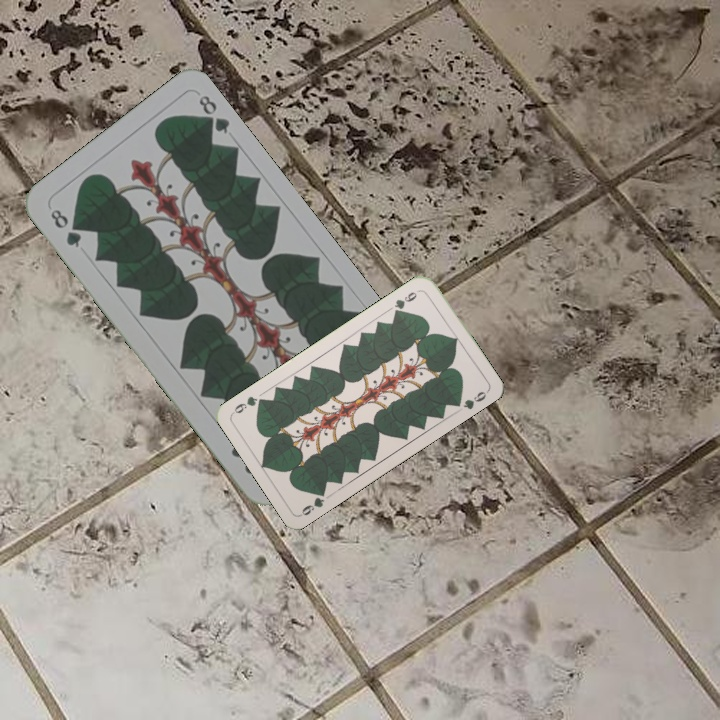G8: (46, 204, 85, 251)
G9: (390, 286, 423, 317), (297, 485, 328, 518)
